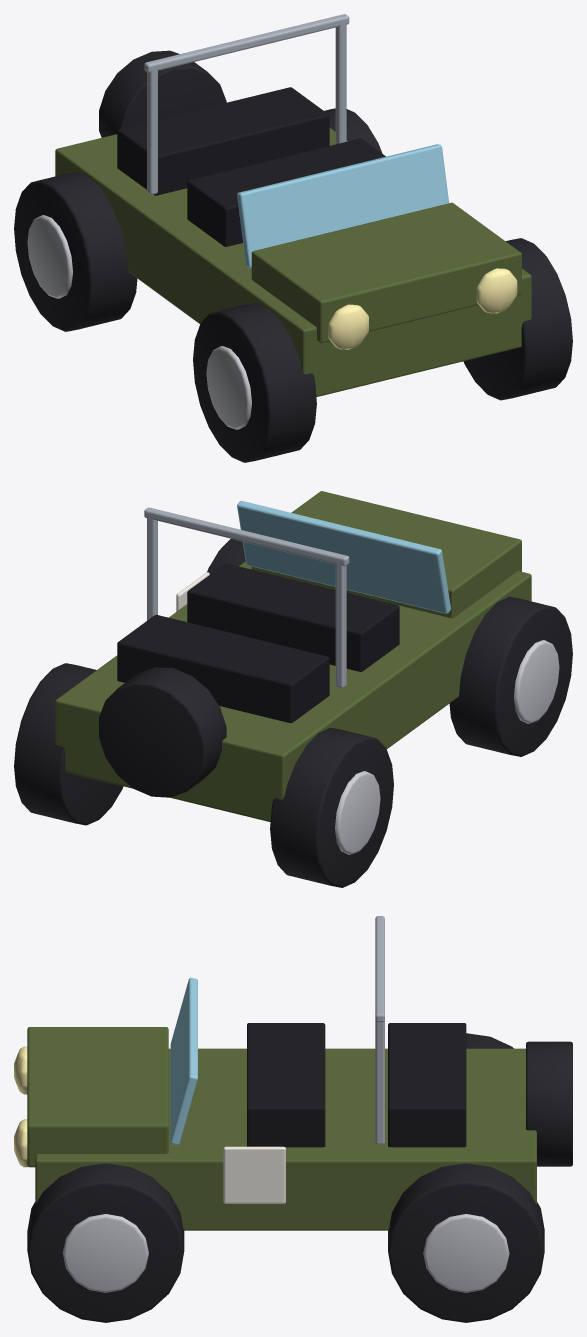
The model's file is jeep.glb.
The picture shows the model from 3 angles, top to bottom: view 1: azimuth 30°, elevation 25°; view 2: azimuth 150°, elevation 25°; view 3: azimuth 270°, elevation 25°; orthographic projection.
Visible parts, largest first — view 1: body, wheelFR, wheelBR, wheelFL, wheelBL; view 2: body, wheelBR, wheelFR, wheelBL, wheelFL; view 3: body, wheelFL, wheelBL, wheelBR.
Boxes of the visible parts, x1,y1,x2,y2 form: body: (55,14,531,396); wheelFR: (193,302,316,462); wheelBR: (14,171,137,331); wheelFL: (463,238,572,400); wheelBL: (324,108,382,153); body: (55,491,531,822); wheelBR: (270,727,393,887); wheelFR: (449,596,572,756); wheelBL: (14,663,123,825); wheelFL: (207,539,245,574); body: (14,916,572,1230); wheelFL: (27,1163,184,1322); wheelBL: (388,1163,544,1322); wheelBR: (466,1033,513,1048).
Bounding box in the file's own units: 2.32 × 2 × 3.57.
